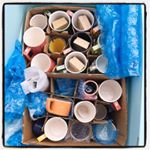cups: (35, 116, 71, 146), (96, 79, 126, 114), (21, 26, 48, 58), (55, 51, 89, 75), (65, 8, 98, 31), (45, 9, 72, 32)
